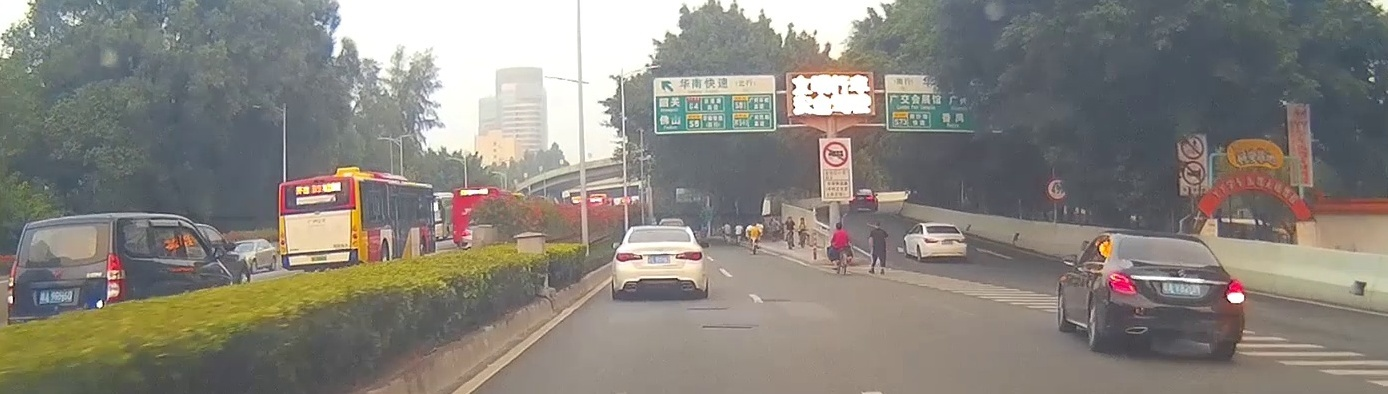L_light: (1107, 271, 1136, 295), (616, 252, 643, 263), (924, 238, 938, 244)
R_light: (1224, 279, 1245, 303), (675, 250, 703, 261), (955, 238, 966, 243)
T_light: (1158, 239, 1177, 244), (654, 230, 665, 232), (938, 226, 945, 228)
day-no: (612, 226, 708, 300), (921, 223, 967, 262)
day-right: (1103, 230, 1248, 360)
